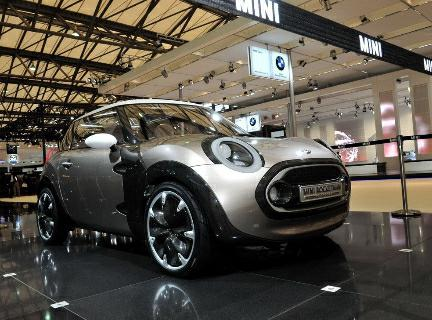MINI-ROCKETMAN: (28, 98, 357, 276)
